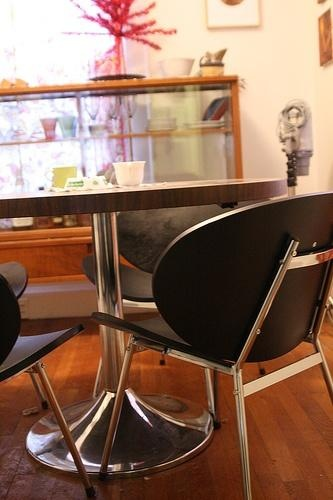chair: (89, 189, 333, 500), (77, 199, 278, 429), (1, 274, 100, 500)
